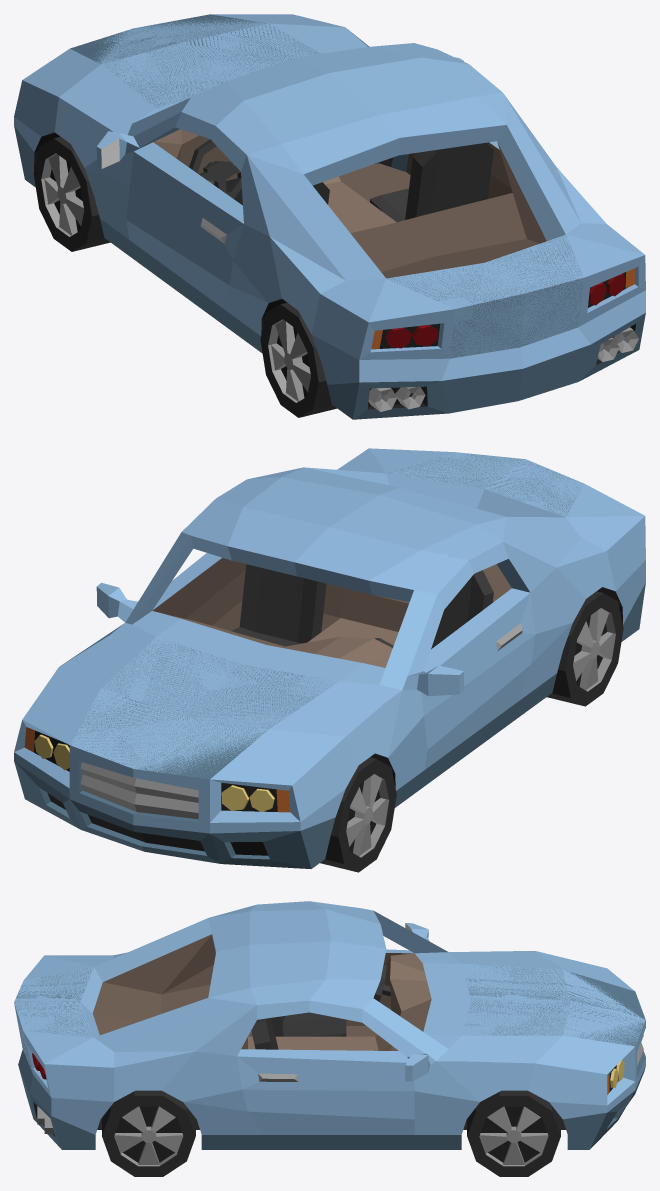
Rendered from car_combined.fbx.
3 renders of one model, top to bottom at view 1: azimuth 30°, elevation 25°; view 2: azimuth 150°, elevation 25°; view 3: azimuth 270°, elevation 25°, orthographic. The views are drawn at different scales.
Parts seen in each view (by area): view 1: Car; view 2: Car; view 3: Car.
Part boxes in pixels (left/top/right/bottom): Car: left=14, top=14, right=645, bottom=419; Car: left=14, top=448, right=645, bottom=872; Car: left=14, top=901, right=645, bottom=1176.
Size of the model in its own units: 348 by 200 by 652.
